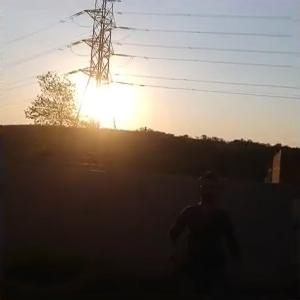follow: (164, 166, 245, 298)
